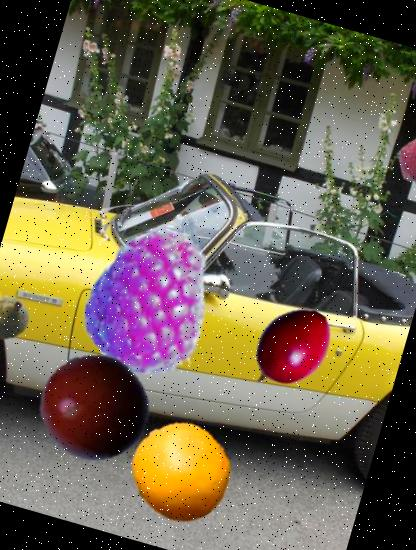Beetroot: (0, 285, 38, 348)
Grapefruit: (119, 409, 244, 534)
Raspberry: (65, 212, 248, 394)
Strawberry: (389, 127, 416, 195)
Tamarillo: (27, 340, 163, 476), (235, 293, 346, 404)
